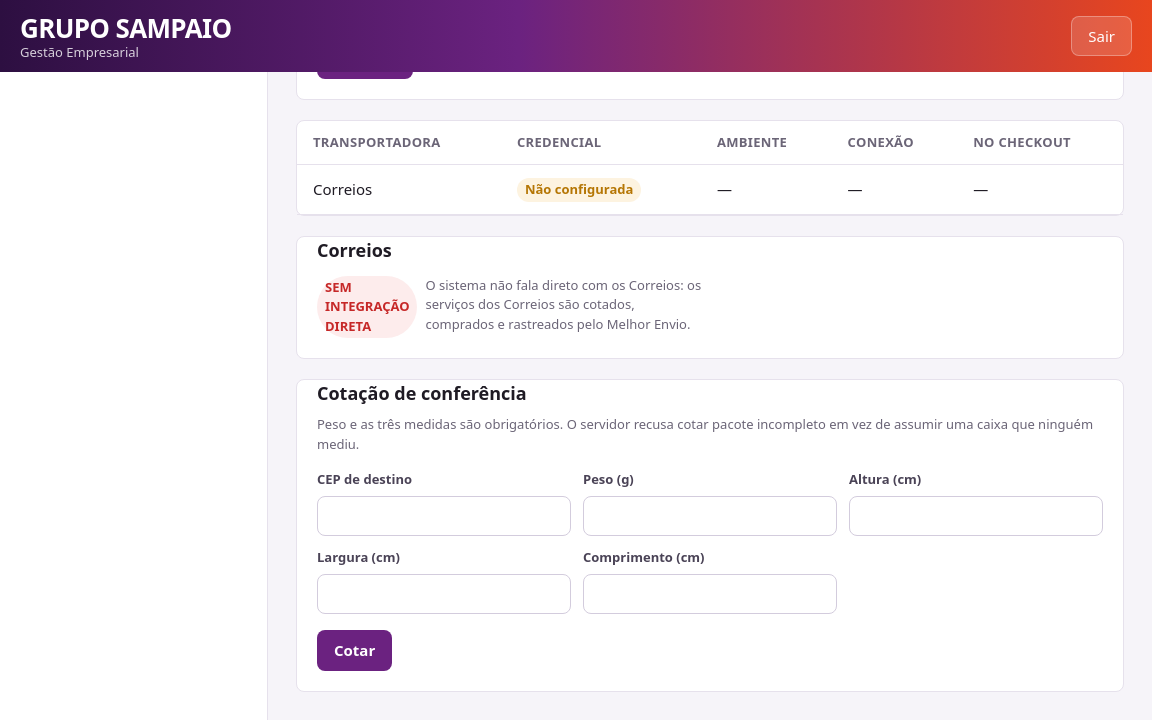
Test: cotação › pacote incompleto vira lista do que falta, não uma caixa inventada
(page scrolled)
Click the button "Cotar": (355, 650) [317,630,392,670]
(page scrolled)
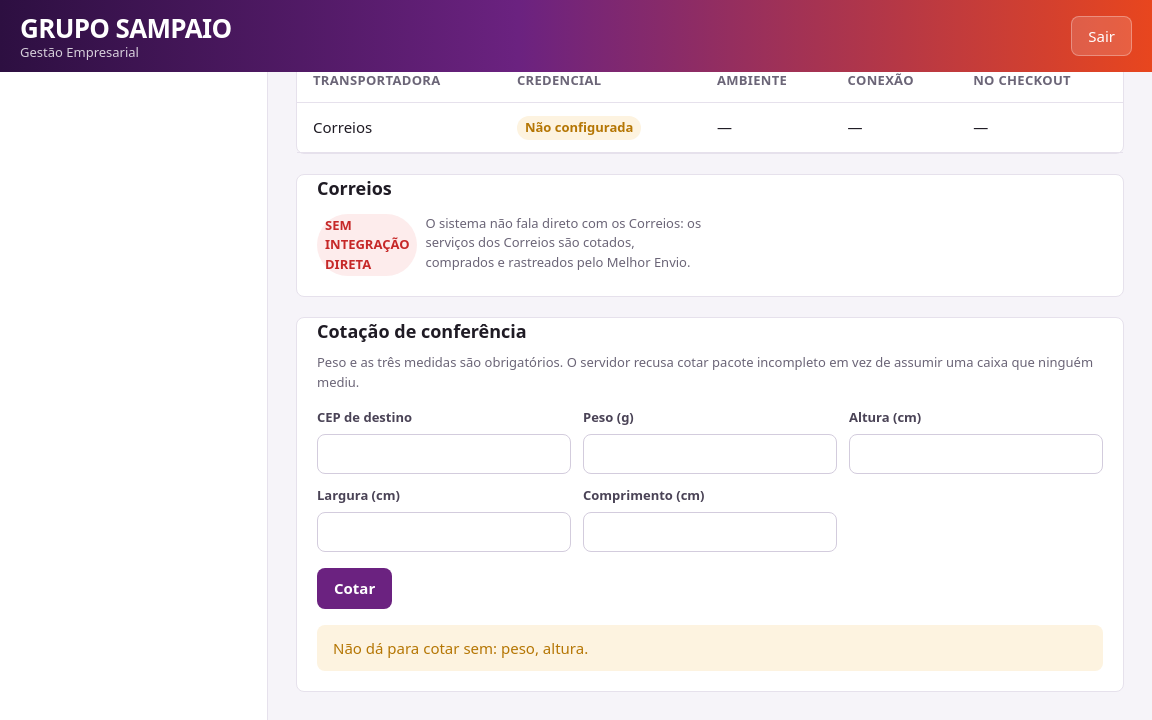
Now the text "Não dá para cotar sem: peso, altura." is shown, box [317,624,1103,671]
